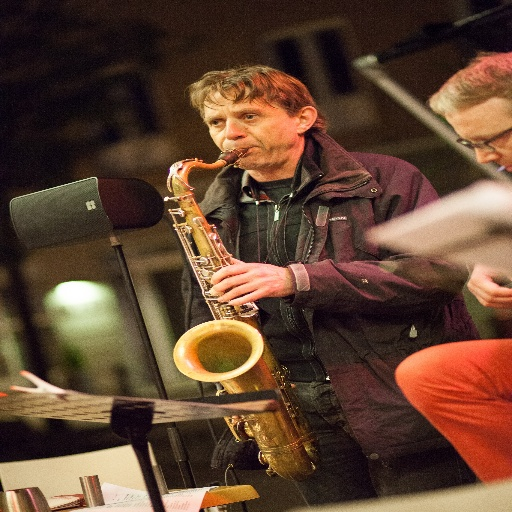hand: (208, 256, 299, 305), (463, 264, 511, 308)
